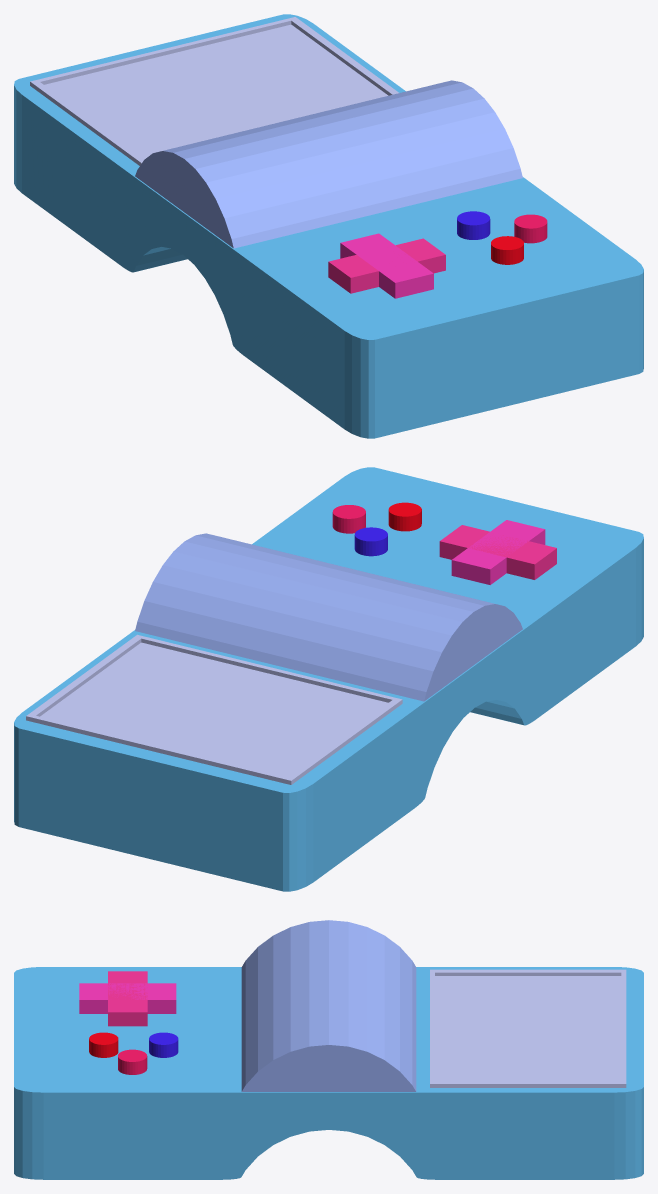
File: tetris_colored.fbx
3 views of the same model, one above another, from view 1: azimuth 30°, elevation 25°; view 2: azimuth 150°, elevation 25°; view 3: azimuth 270°, elevation 25° (orthographic). The views are drawn at different scales.
Visible parts, largest first — view 1: Cylinder.003; view 2: Cylinder.003; view 3: Cylinder.003.
Boxes of the visible parts, bbox=[...] form: Cylinder.003: bbox=[14, 14, 643, 438]; Cylinder.003: bbox=[14, 467, 643, 891]; Cylinder.003: bbox=[14, 920, 643, 1179].
Size of the model in its own units: 94.46 by 47.1 by 200.
